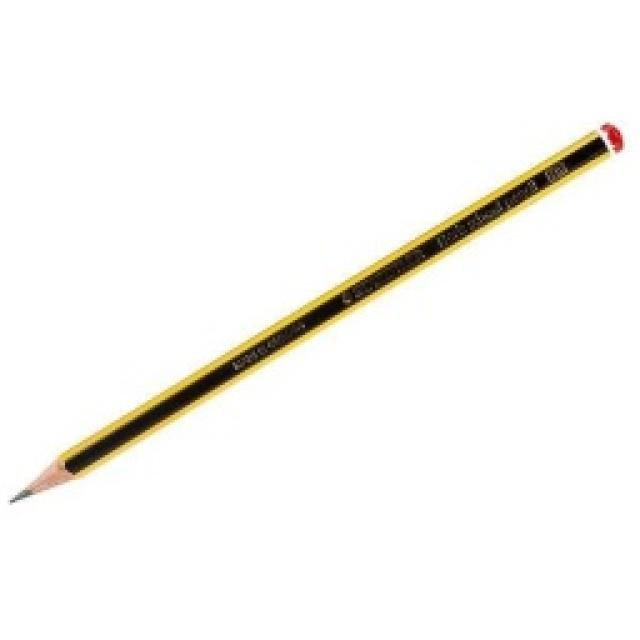pencil: (2, 115, 628, 507)
